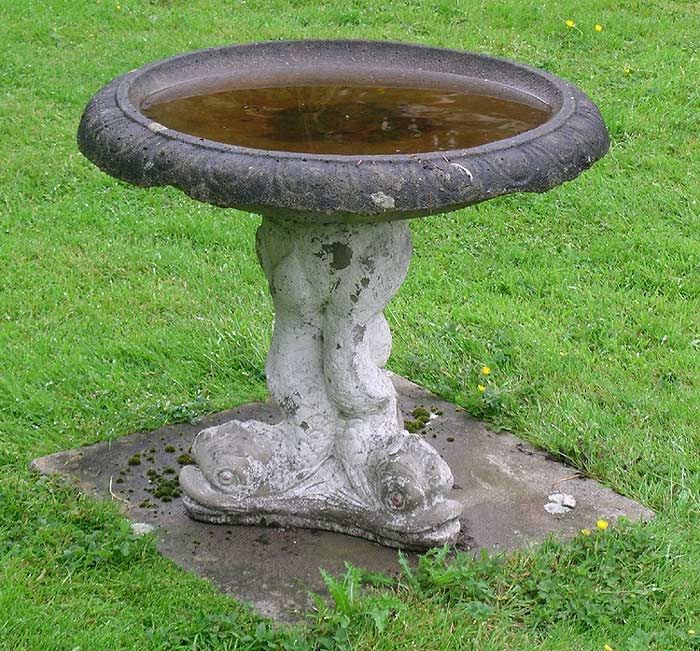bird bath: (68, 19, 633, 599)
water: (143, 76, 560, 160)
